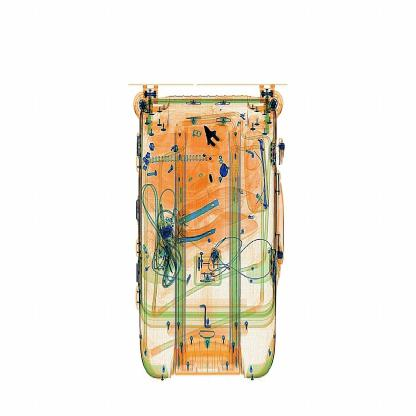gun: (198, 117, 240, 180)
